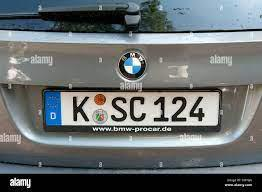1: (152, 96, 171, 123)
2: (170, 96, 188, 123)
4: (189, 96, 207, 122)
C: (129, 96, 147, 121)
K: (71, 95, 91, 122)
S: (110, 96, 129, 123)
